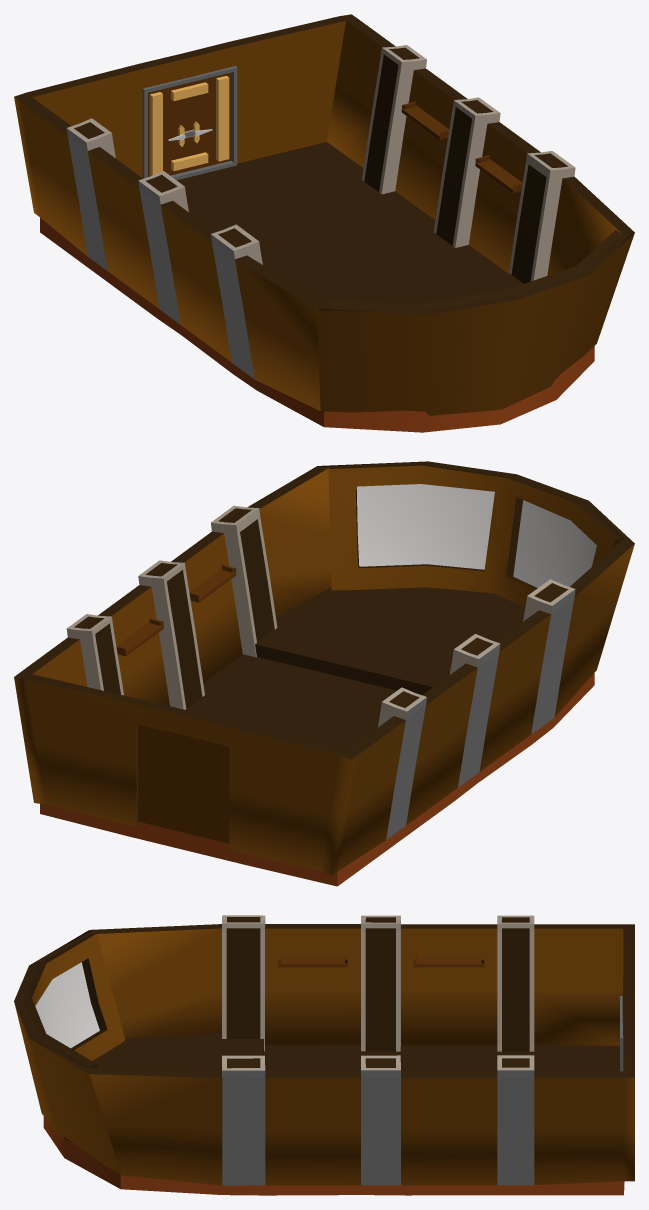
Rendered from FinishedBoat.FBX.
3 views of the same model, one above another, from view 1: azimuth 30°, elevation 25°; view 2: azimuth 150°, elevation 25°; view 3: azimuth 270°, elevation 25° (orthographic). The views are drawn at different scales.
Visible parts, largest first — view 1: Box001, Box004, Box003; view 2: Box001, Box003, Box004; view 3: Box001.
Boxes of the visible parts, x1=… form: Box001: x1=14, y1=14, x2=634, y2=432; Box004: x1=188, y1=66, x2=237, y2=176; Box003: x1=142, y1=77, x2=190, y2=180; Box001: x1=14, y1=461, x2=634, y2=886; Box003: x1=184, y1=735, x2=229, y2=843; Box004: x1=138, y1=724, x2=183, y2=832; Box001: x1=14, y1=915, x2=634, y2=1195.
Size of the model in its own units: 204 by 345 by 84.69.
Materials: 2 (2 with a texture image).
